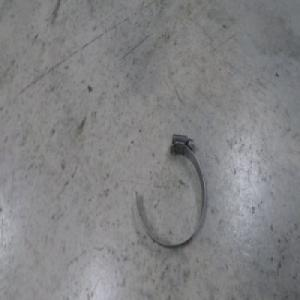AdjustableClamp: (137, 133, 206, 248)
